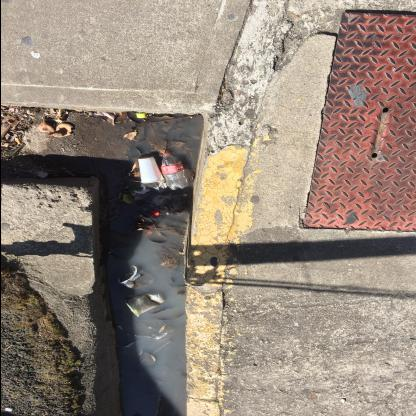plastik: (160, 150, 188, 190), (124, 292, 166, 317), (117, 266, 153, 290), (136, 156, 164, 183)
